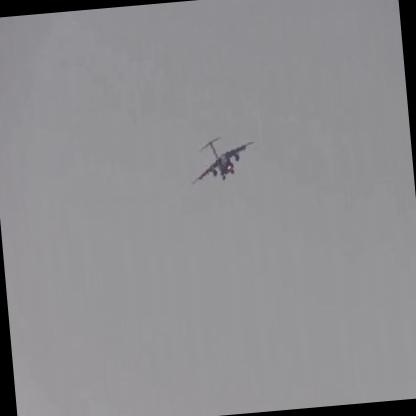plane: (177, 128, 268, 195)
